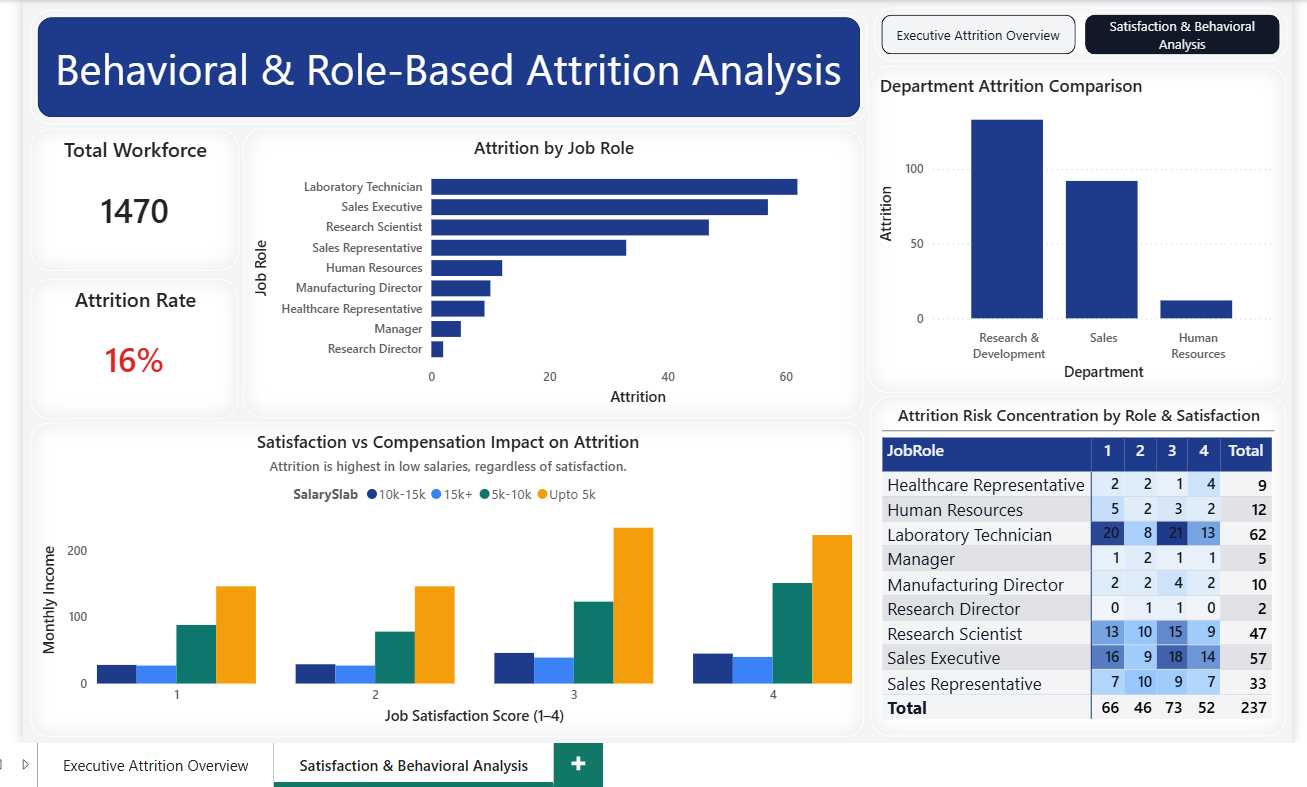

The dashboard page shown, as its layout file describes it:
{"tool":"powerbi","page":{"name":"Satisfaction & Behavioral Analysis","canvas":[1280,750],"ordinal":1},"visuals":[{"type":"pageNavigator","box":[858.3,7.3,416.4,54.5],"z":0,"group":"g1"},{"type":"card","title":"Attrition Rate","fields":{"Values":["HR_Analytics.Attrition Rate (%)"]},"box":[7.4,280.2,209.9,142],"z":0,"group":"g2"},{"type":"pivotTable","title":"Attrition Risk Concentration by Role & Satisfaction","fields":{"Rows":["HR_Analytics.JobRole"],"Columns":["HR_Analytics.JobSatisfaction"],"Values":["HR_Analytics.Total Attrition"]},"box":[854.6,399.8,419,343.4],"z":0},{"type":"group","id":"g1","title":"Shape & Negigator","box":[7.3,7.3,1267.4,117.4],"z":1000},{"type":"shape","title":"Attrition Overview Shape","box":[7.3,9.7,843.7,115],"z":1000,"group":"g1"},{"type":"card","title":"Total Workforce","fields":{"Values":["HR_Analytics.Total Employee"]},"box":[7.3,129.5,210,143],"z":1000,"group":"g2"},{"type":"clusteredColumnChart","title":"Satisfaction vs Compensation Impact on Attrition","fields":{"Y":["CountNonNull(HR_Analytics.Attrition_Flag)"],"Category":["HR_Analytics.JobSatisfaction"],"Series":["HR_Analytics.SalarySlab"]},"box":[7.4,425.9,840.7,317.3],"z":1000,"group":"g3"},{"type":"group","id":"g2","title":"Cards","box":[7.3,129.5,210,292.7],"z":2000},{"type":"clusteredBarChart","title":"Attrition by Job Role","fields":{"Category":["HR_Analytics.JobRole"],"Y":["Sum(HR_Analytics.Attrition_Flag)"]},"box":[222.2,129.6,625.9,292],"z":2000,"group":"g3"},{"type":"group","id":"g3","title":"Charts","box":[7.4,67.1,1266.7,676.1],"z":3000},{"type":"clusteredColumnChart","title":"Department Attrition Comparison","fields":{"Category":["HR_Analytics.Department"],"Y":["Sum(HR_Analytics.Attrition_Flag)"]},"box":[852.5,67.1,421.5,329.3],"z":3000,"group":"g3"}]}

Visuals, with their boxes on the page's 1280x750 design canvas (x1, y1, x2, y2). These are canvas units, not pixel positions in the 1307x787 screenshot, which may show the page scaled, cropped or inside an application window:
pageNavigator: (x1=858, y1=7, x2=1275, y2=62)
"Attrition Rate" card: (x1=7, y1=280, x2=217, y2=422)
"Attrition Risk Concentration by Role & Satisfaction" pivotTable: (x1=855, y1=400, x2=1274, y2=743)
"Shape & Negigator" group: (x1=7, y1=7, x2=1275, y2=125)
"Attrition Overview Shape" shape: (x1=7, y1=10, x2=851, y2=125)
"Total Workforce" card: (x1=7, y1=130, x2=217, y2=272)
"Satisfaction vs Compensation Impact on Attrition" clusteredColumnChart: (x1=7, y1=426, x2=848, y2=743)
"Cards" group: (x1=7, y1=130, x2=217, y2=422)
"Attrition by Job Role" clusteredBarChart: (x1=222, y1=130, x2=848, y2=422)
"Charts" group: (x1=7, y1=67, x2=1274, y2=743)
"Department Attrition Comparison" clusteredColumnChart: (x1=852, y1=67, x2=1274, y2=396)
